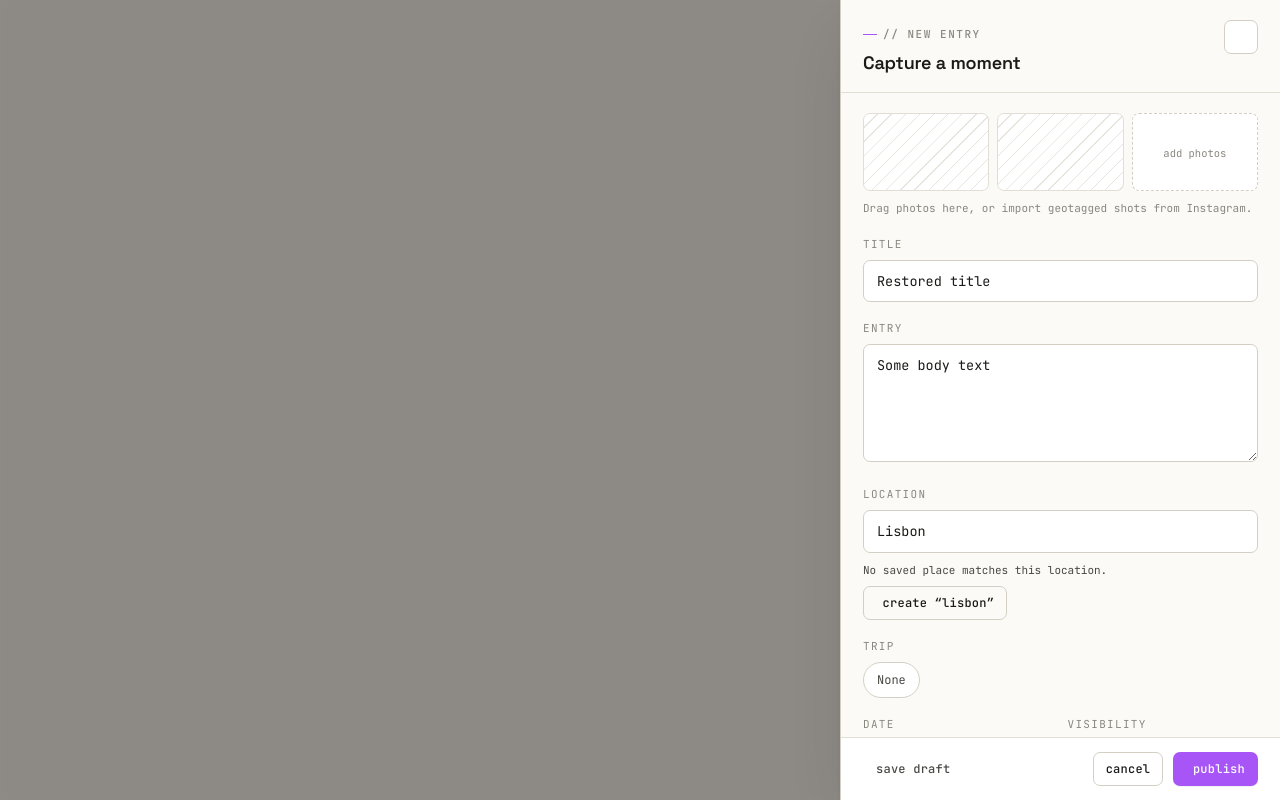
Test case: AppNewEntry › blocks publish and shows an error when a restored draft's date was cleared
The image size is (1280, 800).
Click the button with class "btn--primary" at coordinates (1216, 769), box top-left (1173, 752), bottom-right (1258, 786)
(page scrolled)
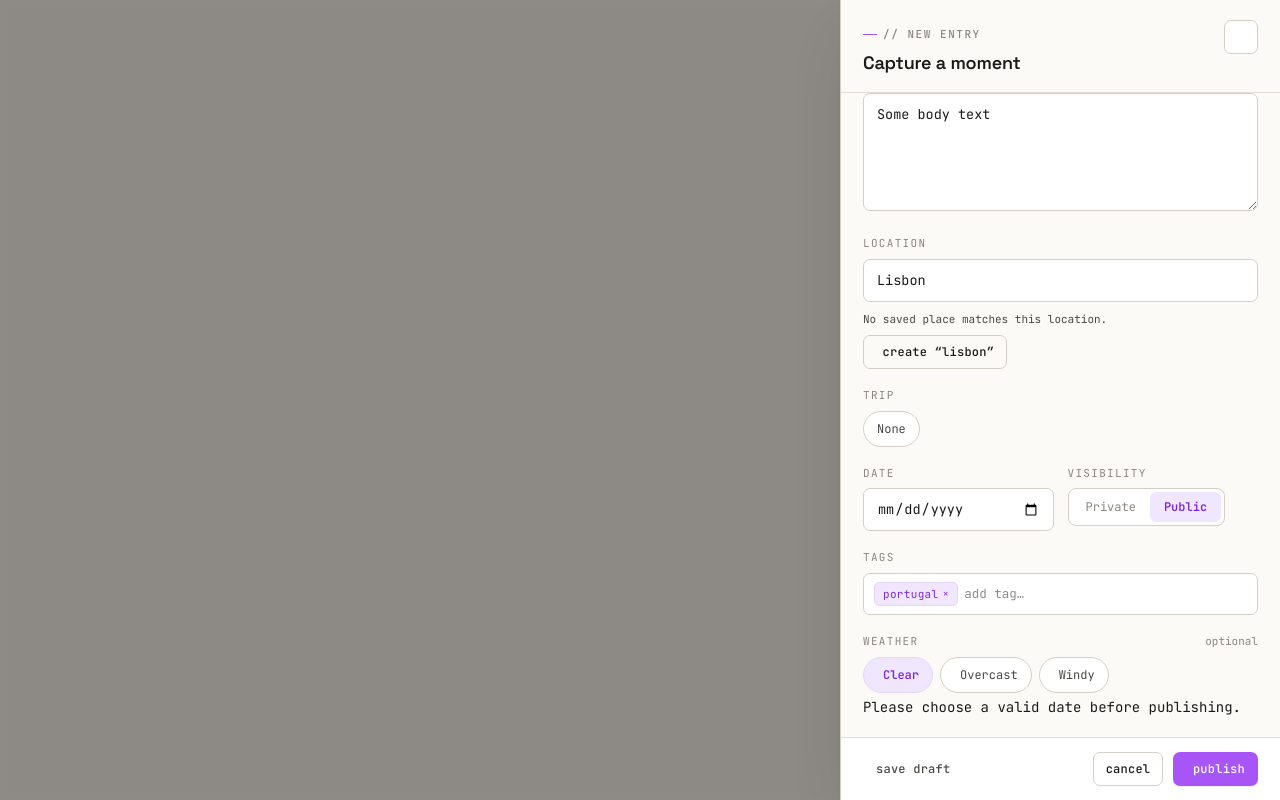
Expected: the text with test id "publish-error" shows "valid date", top-left (863, 698), bottom-right (1241, 716)
